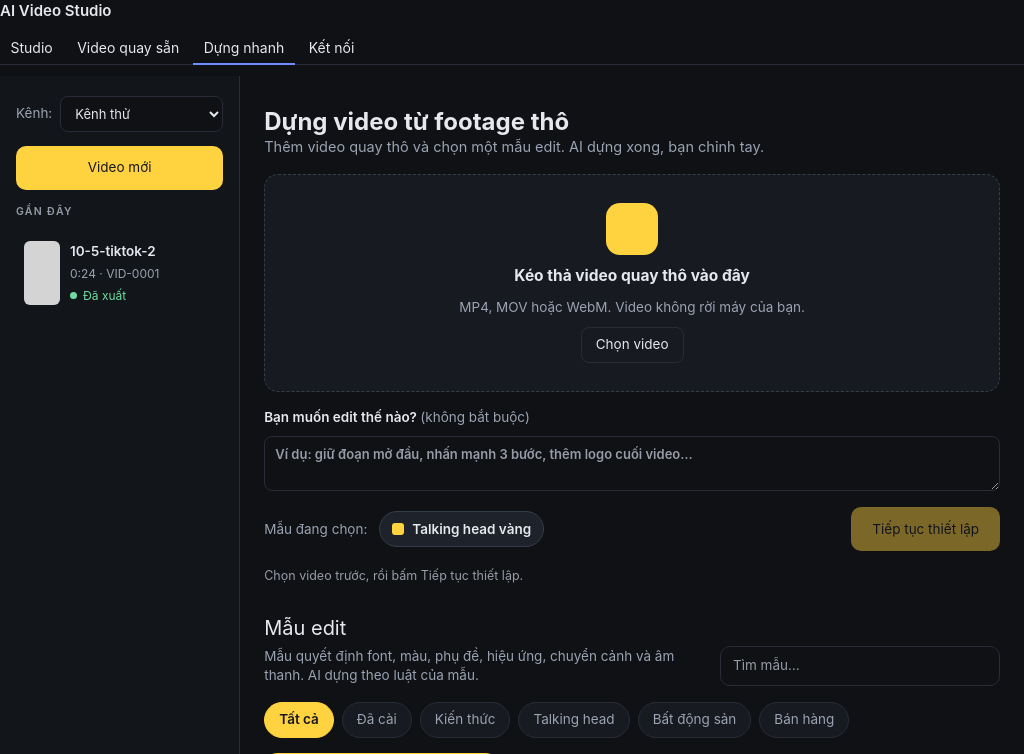
Test: Dựng nhanh › Trang đầu › filters templates by Đã cài, by tag and by a search without accents
Click the button "Đã cài".
click(377, 720)  # box 342,702 -> 412,738
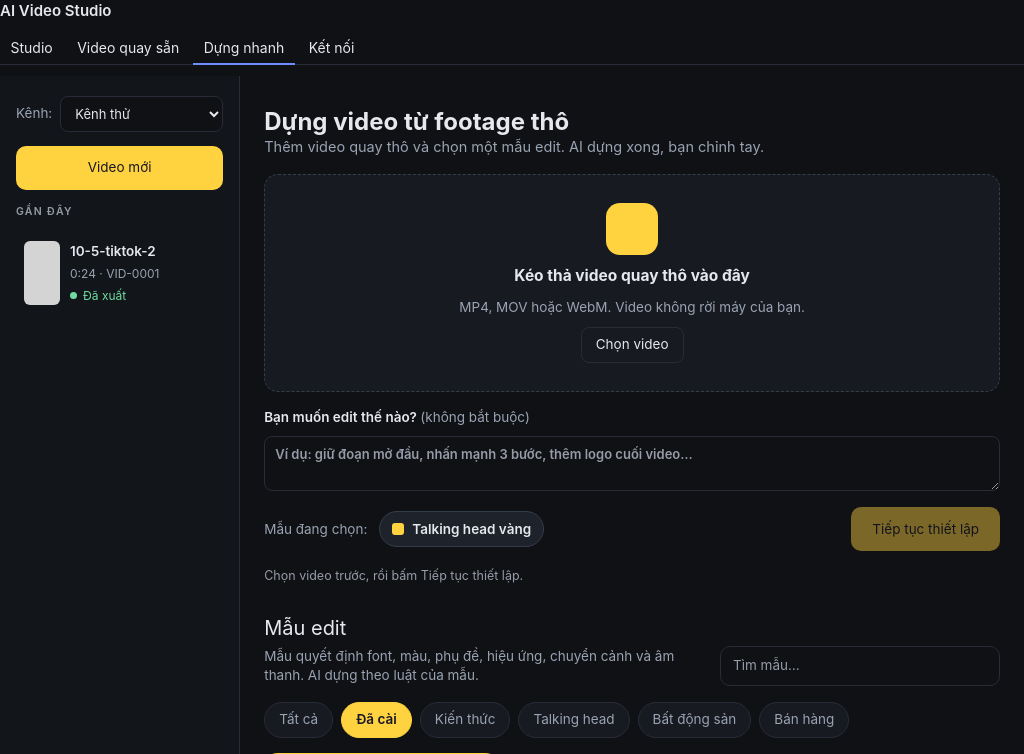
Expected: the button "Đã cài" is pressed, 341,702 -> 412,738
Click the button "Bán hàng".
click(804, 720)  # box 759,702 -> 849,738
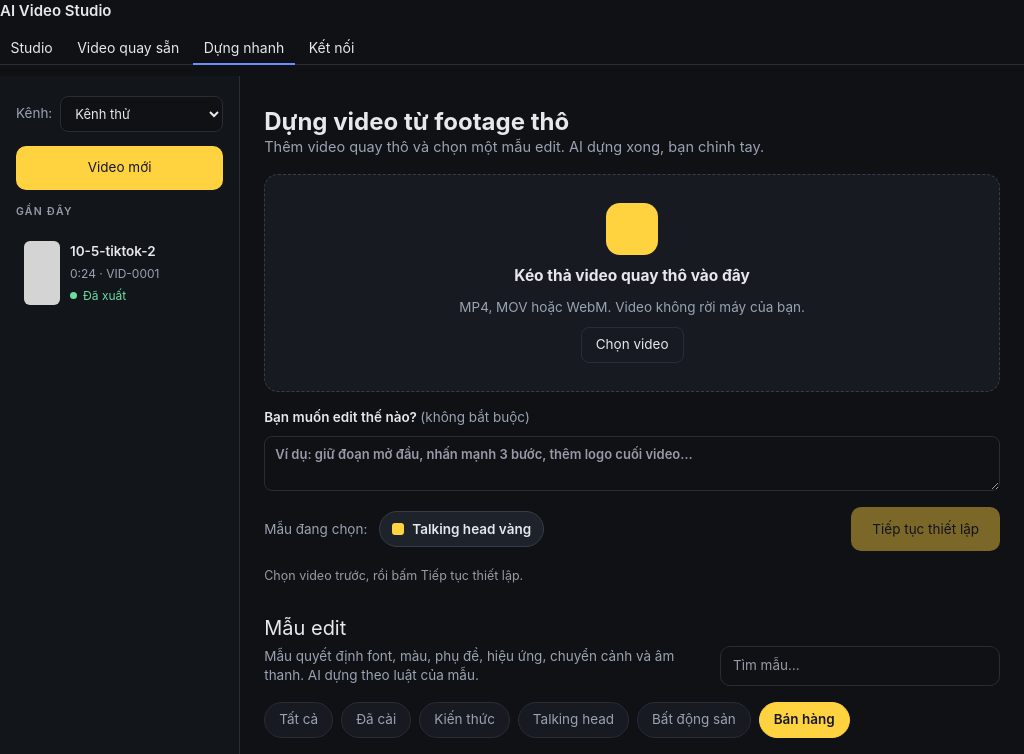
Click the button "Tất cả".
click(299, 720)  # box 264,702 -> 333,738
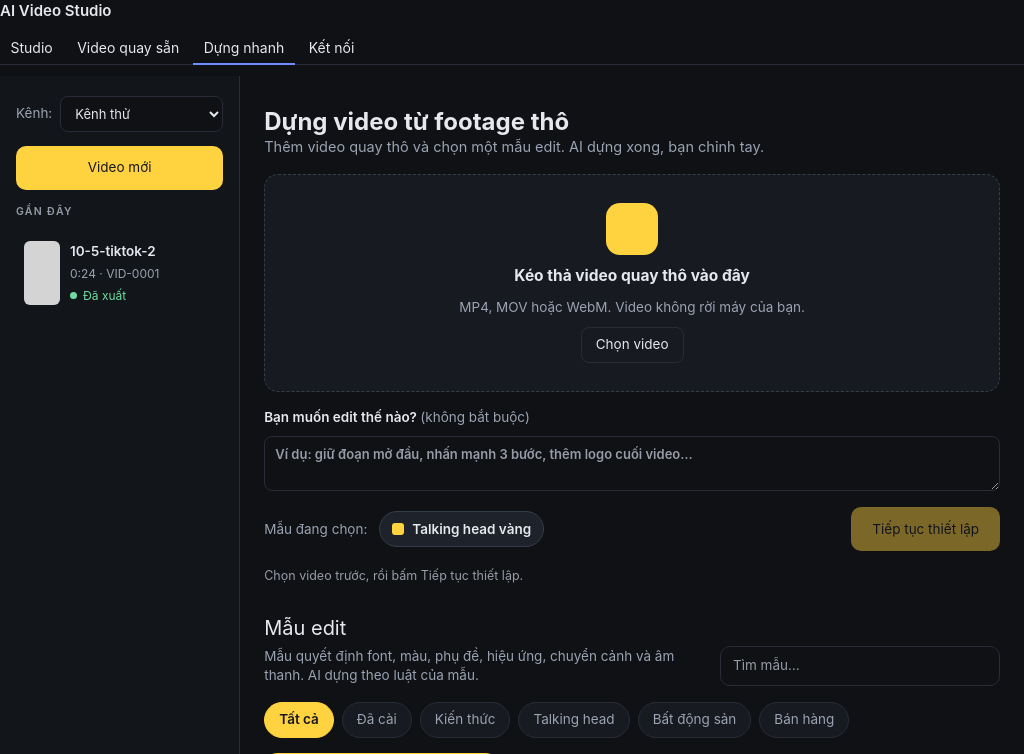
Type "kien thuc" into the search field with placeholder "Tìm mẫu…".
click(860, 666); type("kien thuc")  # box 733,656 -> 987,675
Replace the text in the search field with "không có mẫu này" at x=860, y=666, box 733,656 -> 987,675
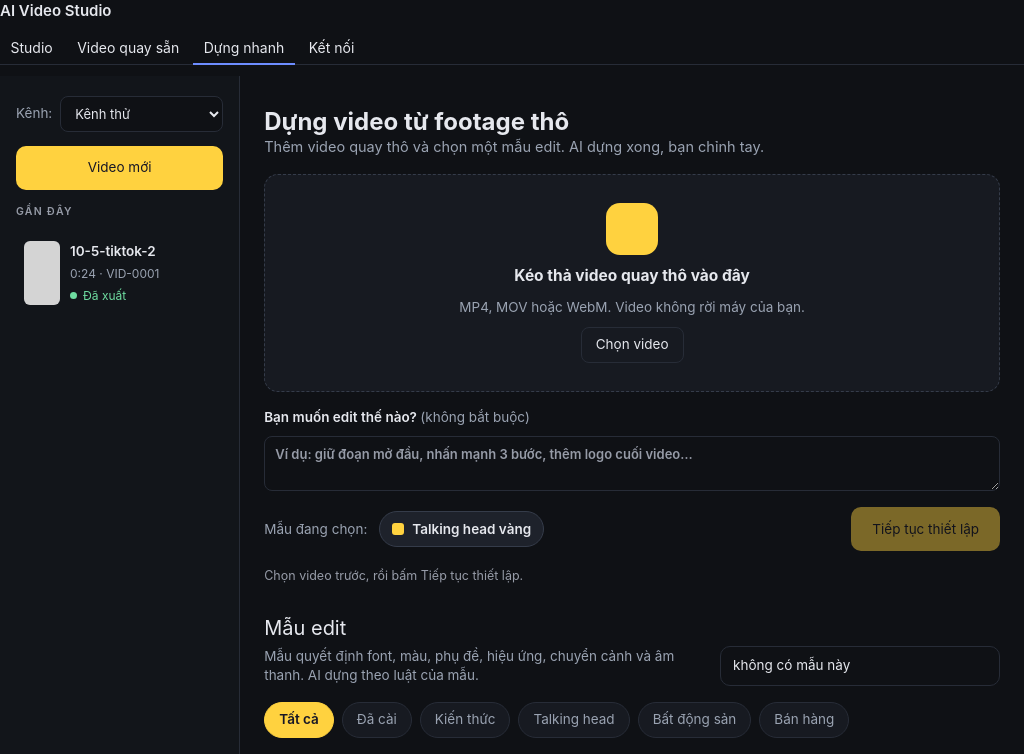
Clear the search field at x=860, y=666, box 733,656 -> 987,675
(page scrolled)
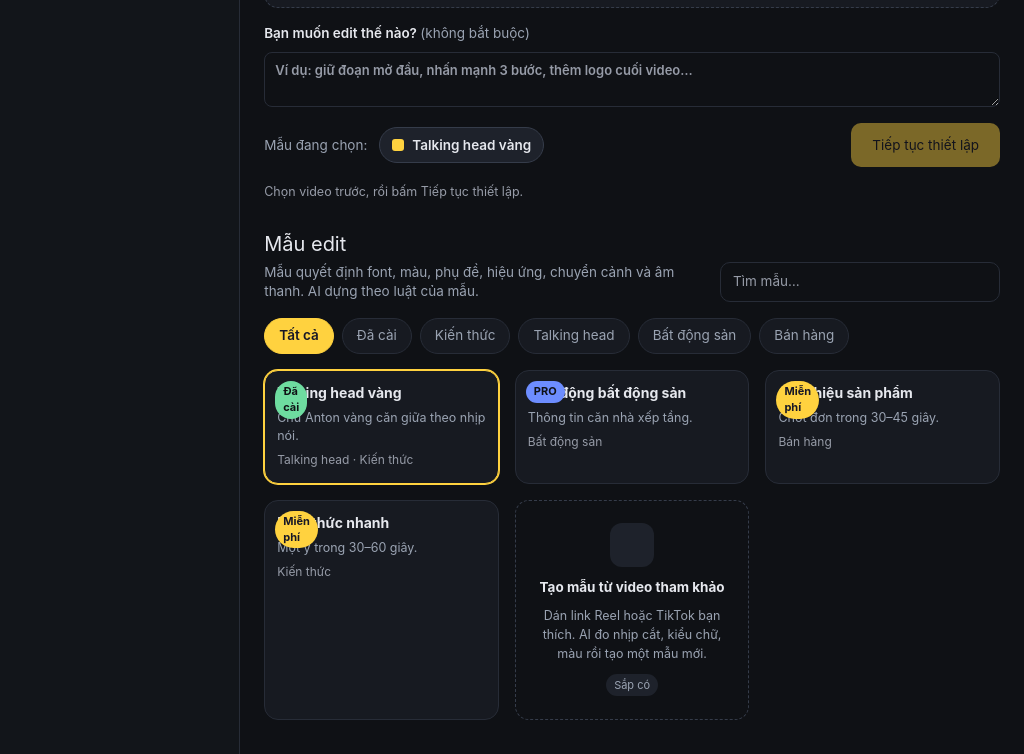
Click the button "Giới thiệu sản phẩm Chốt đơn trong 30–45 giây. Bán hàng".
click(883, 427)  # box 765,370 -> 1000,484
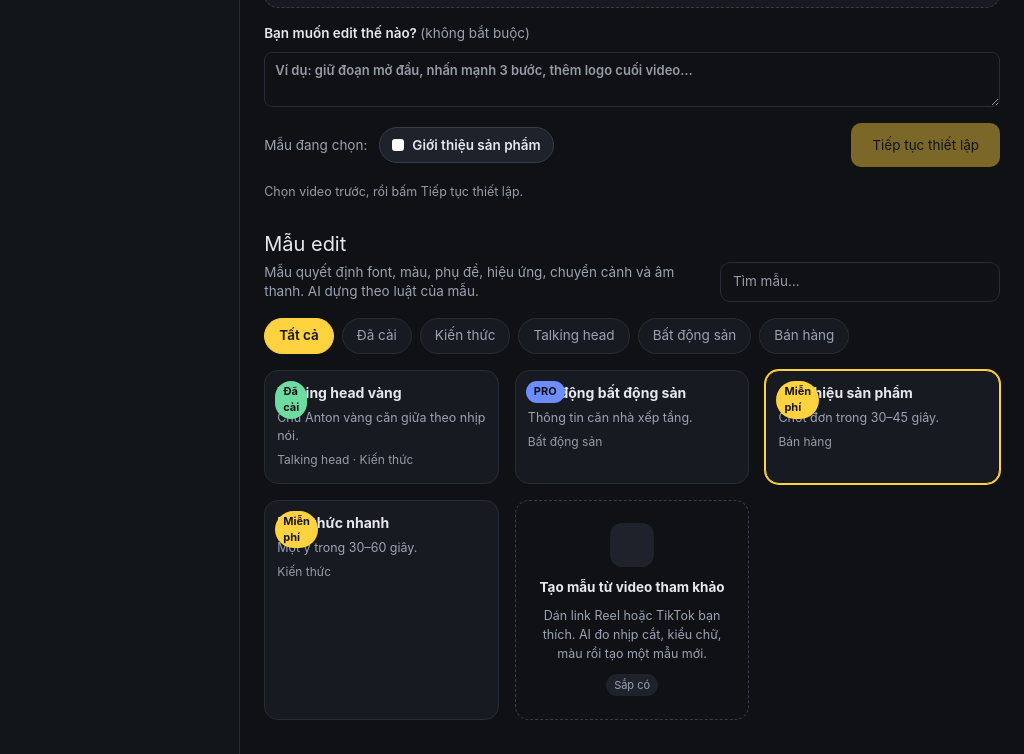
Expected: the element showing "Giới thiệu sản phẩm" is shown, 379,127 -> 554,163
